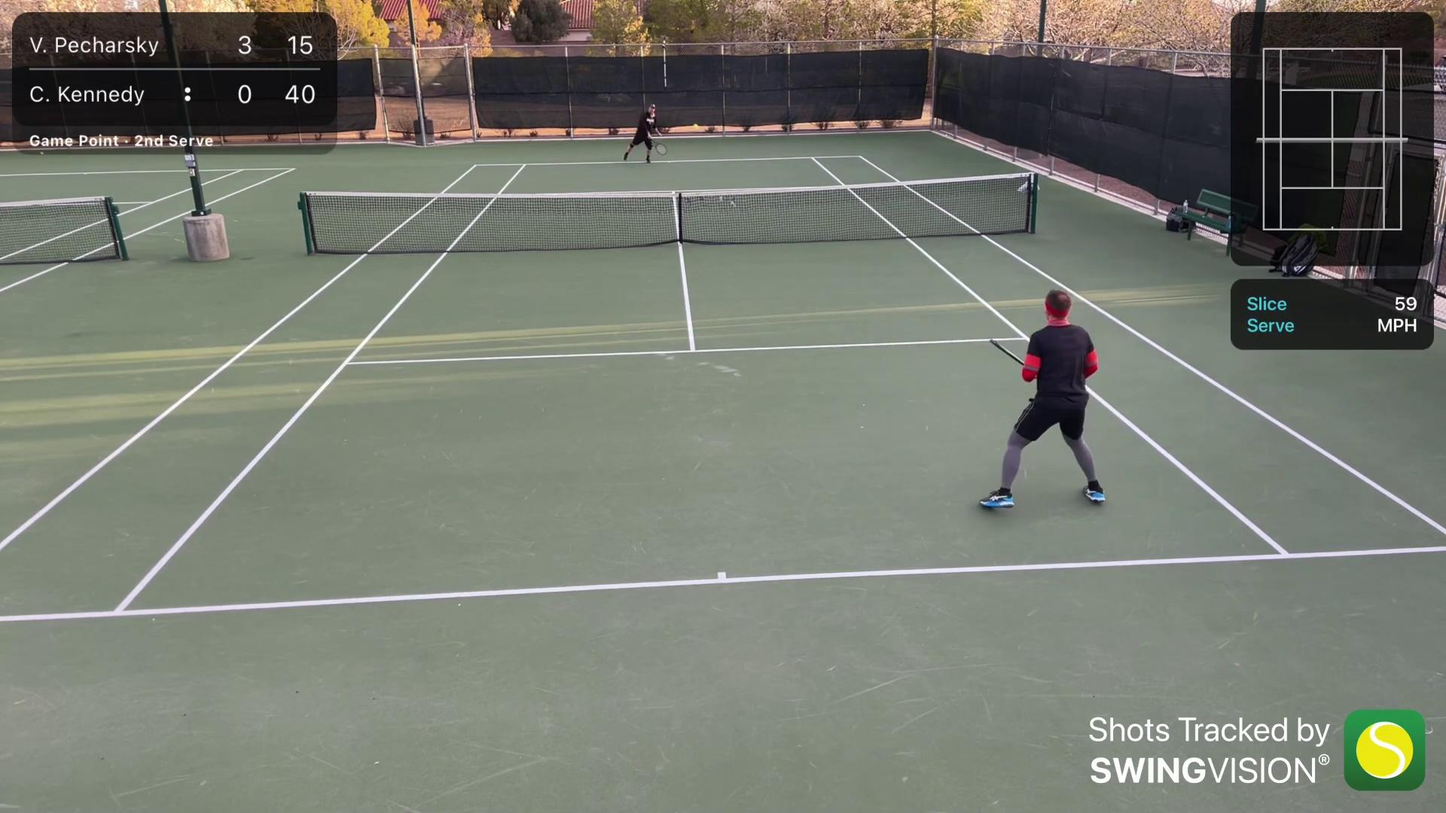ball: (694, 123, 700, 130)
